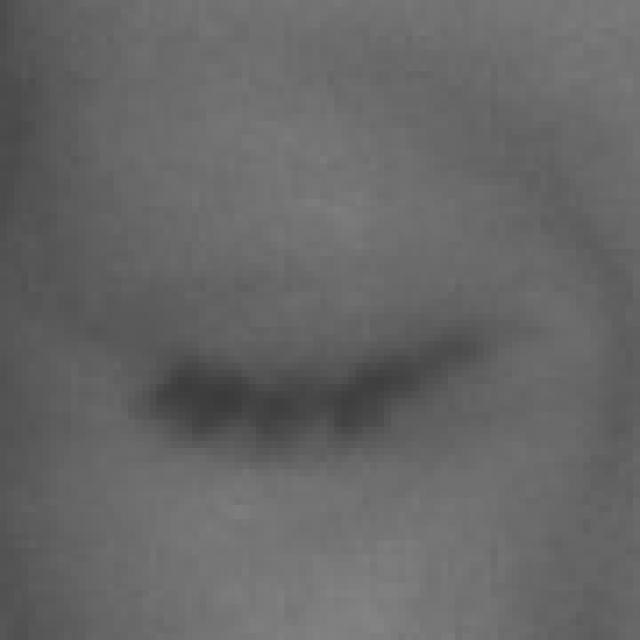Eyeclosed: (135, 209, 518, 546)
